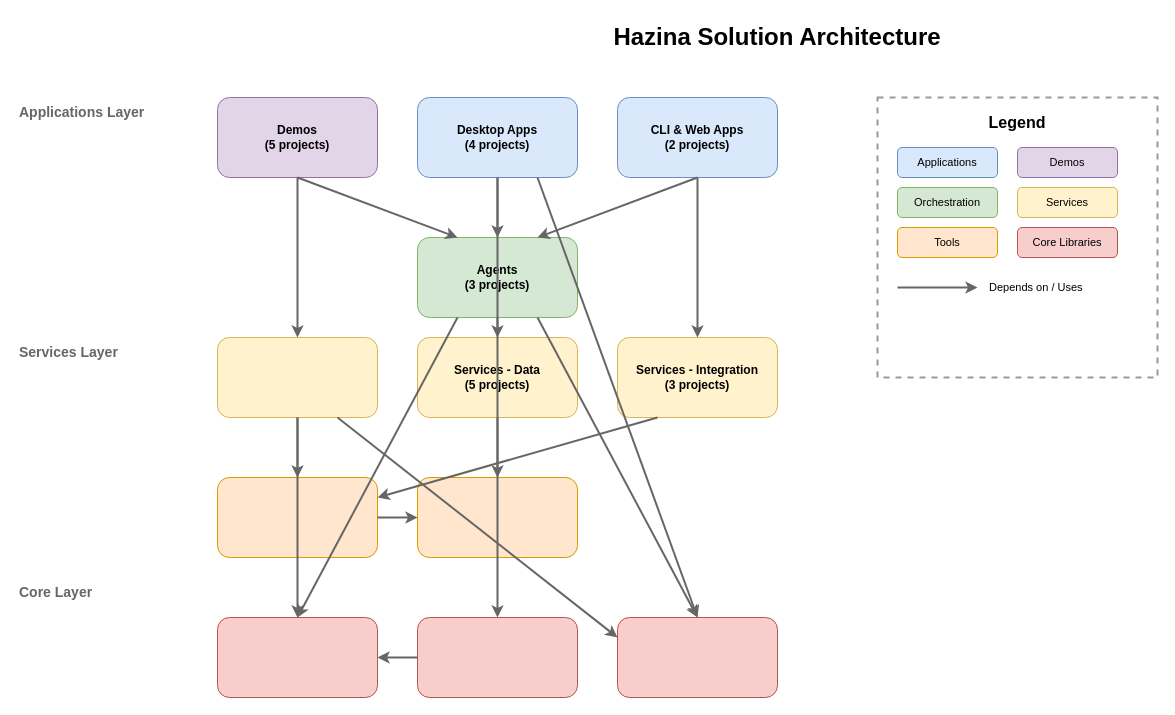
Image size: 1175x715. Some labels were removed from this diagram. The box of each missing label's shape, as (x1, y1, x2, y2) in pixels:
LLM Core (5 projects): (216, 616, 378, 698)
LLM Providers (6 projects): (416, 616, 578, 698)
Services - Core (5 projects): (216, 336, 378, 418)
Storage & UI (3 projects): (616, 616, 778, 698)
Tools Common (2 projects): (216, 476, 378, 558)
Tools Foundation (6 projects): (416, 476, 578, 558)
